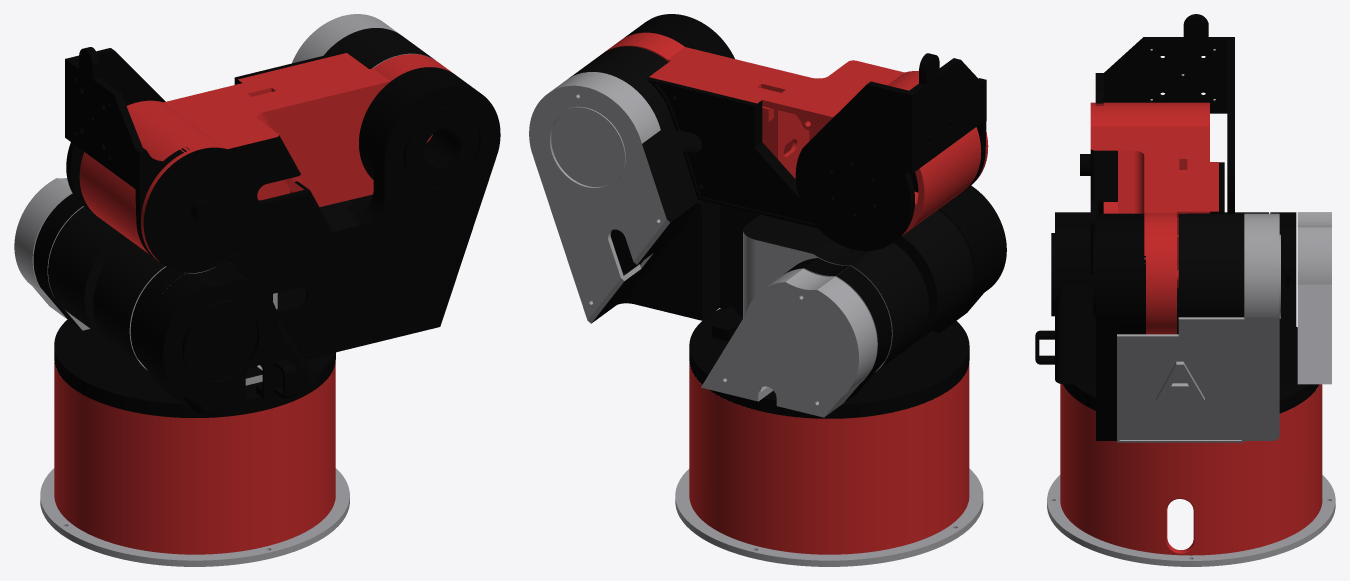
File: robotic_arm.glb
The picture shows the model from 3 angles, left to right: view 1: azimuth 30°, elevation 25°; view 2: azimuth 150°, elevation 25°; view 3: azimuth 270°, elevation 25°; orthographic projection. The views are drawn at different scales.
Size of the model in its own units: 0.3187 by 0.3731 by 0.2288.
